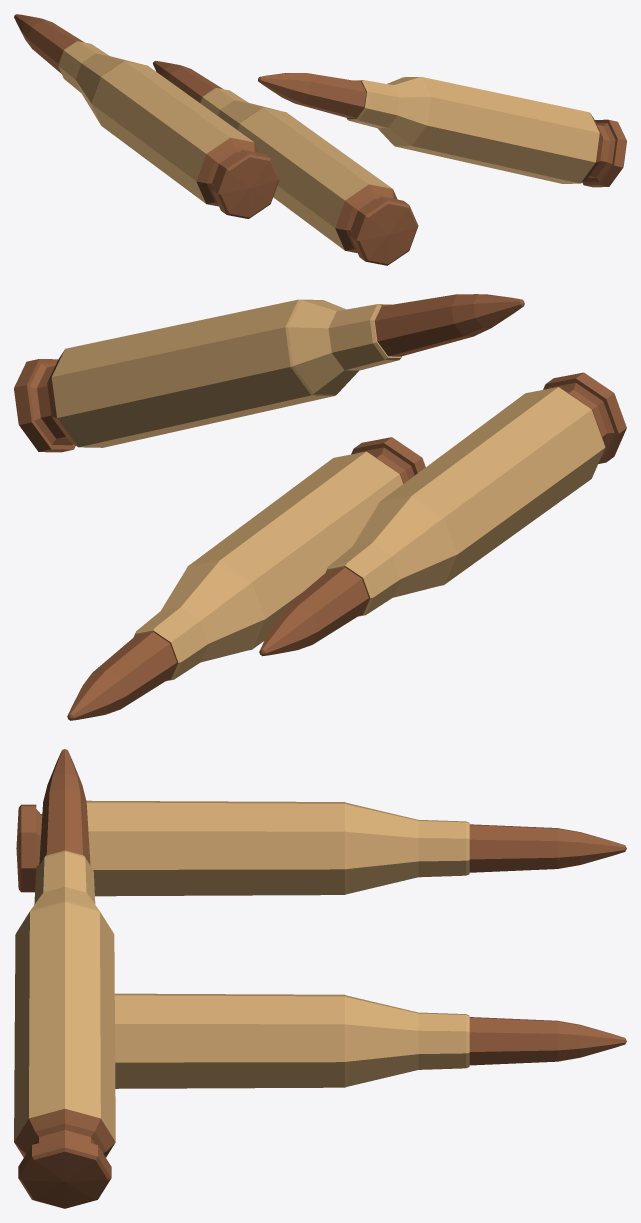
The model's file is SM_Bullets.FBX.
The picture shows the model from 3 angles, top to bottom: view 1: azimuth 30°, elevation 25°; view 2: azimuth 150°, elevation 25°; view 3: azimuth 270°, elevation 25°; orthographic projection. The views are drawn at different scales.
Visible parts, largest first — view 1: Cylinder010; view 2: Cylinder010; view 3: Cylinder010.
Boxes of the visible parts, x1,y1,x2,y2 form: Cylinder010: (14,14,626,265); Cylinder010: (14,294,626,720); Cylinder010: (14,749,626,1208).
Size of the model in its own units: 33.96 by 32.97 by 15.93.
1 material, 1 textured.
